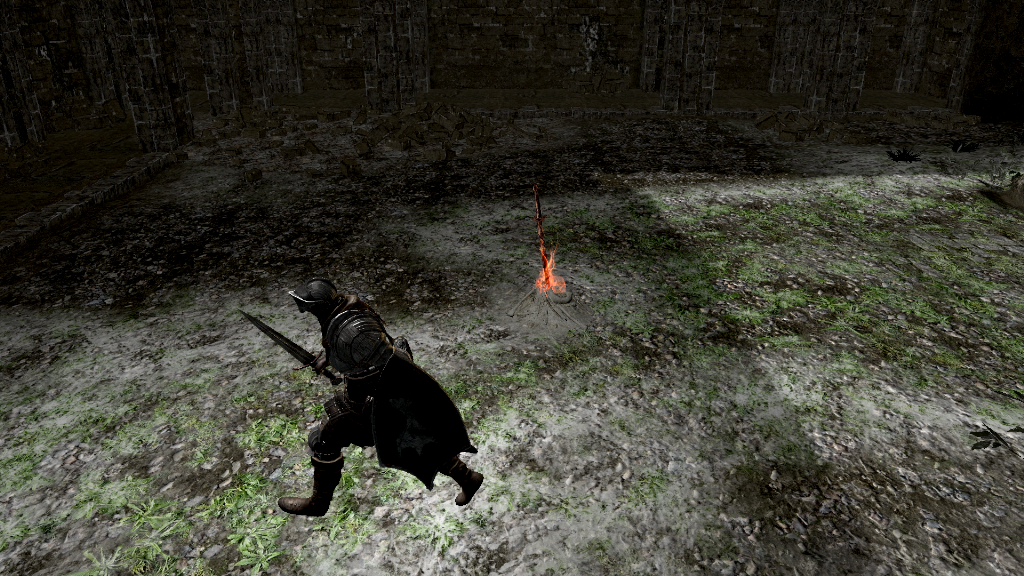bonfire: (517, 182, 578, 303)
player: (237, 272, 486, 519)
